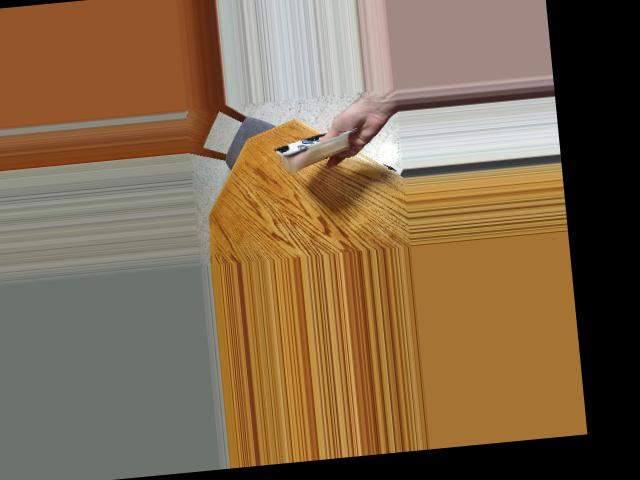cheese: (274, 112, 353, 181)
